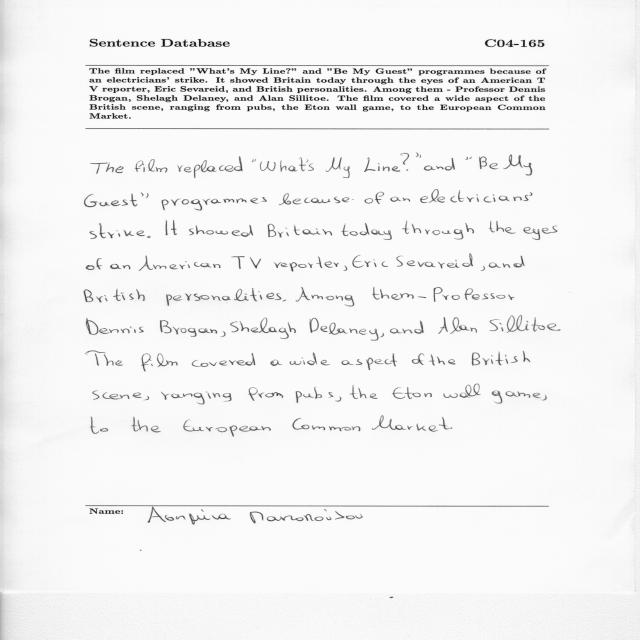word: (166, 288, 281, 306), (310, 318, 379, 341), (420, 189, 533, 203), (183, 420, 271, 437), (177, 156, 243, 178), (230, 317, 296, 339), (402, 221, 474, 240), (162, 197, 267, 210), (139, 255, 221, 271), (372, 416, 450, 432), (434, 287, 515, 302), (296, 288, 354, 307), (396, 254, 473, 268), (489, 315, 545, 333), (86, 318, 144, 335), (274, 257, 339, 272), (160, 320, 217, 337), (342, 353, 397, 370), (279, 193, 354, 205), (268, 224, 332, 238), (293, 418, 361, 431), (192, 353, 255, 367), (90, 223, 145, 239), (341, 223, 392, 240), (472, 351, 530, 365), (84, 289, 145, 302), (171, 392, 232, 405), (189, 225, 253, 237), (85, 194, 138, 207), (438, 317, 477, 334), (142, 354, 178, 372), (492, 391, 541, 404), (504, 155, 533, 176), (86, 351, 124, 366), (93, 391, 149, 401), (372, 287, 414, 300), (289, 353, 330, 366), (443, 384, 481, 398), (325, 157, 350, 178), (280, 157, 314, 172), (524, 225, 558, 240), (248, 387, 283, 401), (392, 387, 432, 399), (131, 417, 161, 433), (352, 255, 388, 268), (135, 159, 168, 173), (390, 321, 424, 334), (489, 256, 525, 268), (296, 387, 322, 403), (424, 158, 455, 171), (350, 385, 378, 399), (364, 157, 390, 172), (231, 256, 261, 269), (91, 162, 123, 174), (489, 221, 516, 234), (392, 153, 409, 172), (91, 416, 108, 434), (429, 355, 456, 366), (479, 157, 499, 170), (365, 192, 384, 204), (86, 258, 103, 270), (166, 221, 177, 236), (260, 161, 276, 171), (412, 353, 424, 365), (329, 392, 342, 402), (547, 323, 561, 331), (391, 197, 411, 202), (110, 264, 130, 269), (270, 359, 282, 366), (161, 391, 170, 400), (141, 193, 149, 199), (541, 395, 547, 401), (221, 332, 226, 338), (416, 153, 421, 158), (481, 266, 485, 271), (466, 157, 472, 160), (418, 296, 427, 298), (380, 333, 384, 337), (344, 266, 347, 271), (252, 159, 256, 162), (147, 236, 151, 238), (283, 300, 286, 302), (451, 427, 453, 429)
